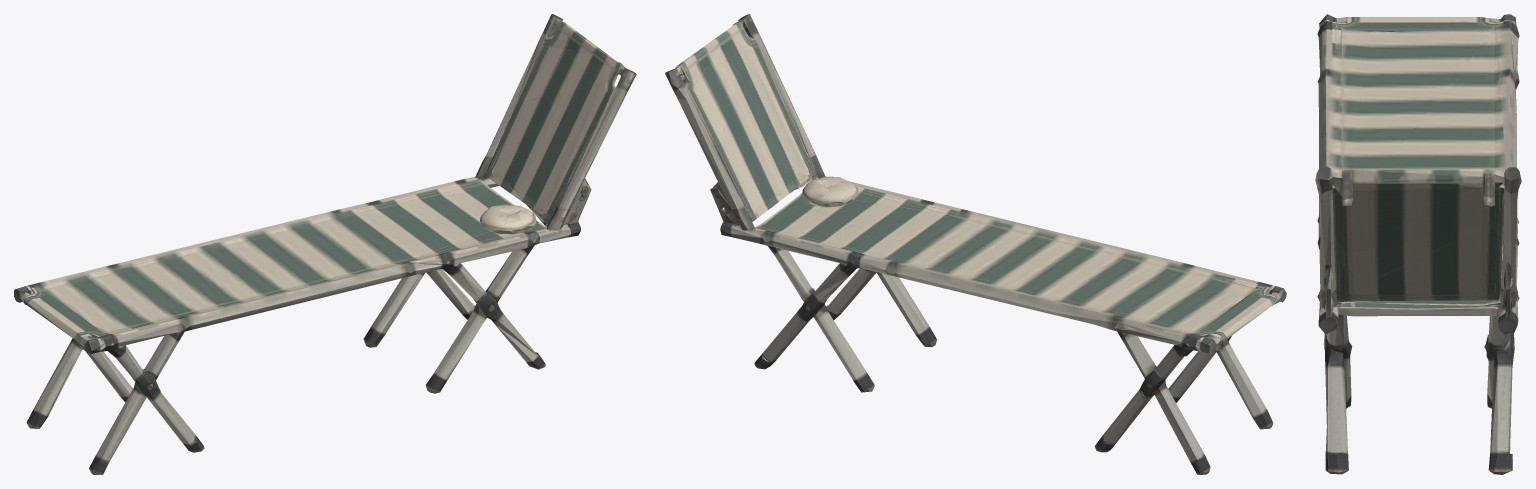
File: landing-platform-lounger.glb
3 views of the same model, side by side, from view 1: azimuth 30°, elevation 25°; view 2: azimuth 150°, elevation 25°; view 3: azimuth 270°, elevation 25° (orthographic). The views are drawn at different scales.
Visible parts, largest first — view 1: output_unwrapped; view 2: output_unwrapped; view 3: output_unwrapped.
Boxes of the visible parts, bbox=[...] form: output_unwrapped: bbox=[14, 14, 636, 474]; output_unwrapped: bbox=[665, 14, 1286, 474]; output_unwrapped: bbox=[1315, 14, 1521, 474].
Bounding box in the file's own units: 1.9 × 0.929 × 0.4863.
1 material, 1 textured.
